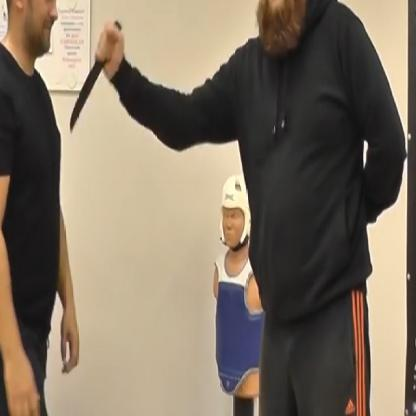knife: (65, 17, 123, 141)
